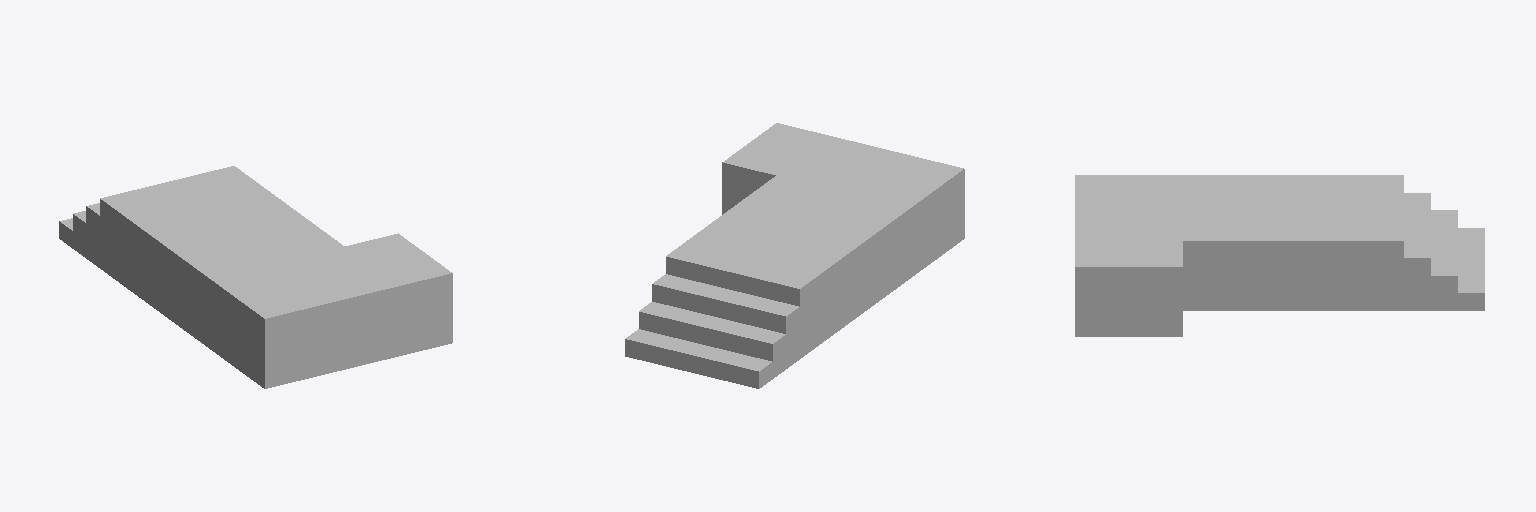
The model's file is AnvilStoneBase.obj.
3 renders of one model, left to right at view 1: azimuth 30°, elevation 25°; view 2: azimuth 150°, elevation 25°; view 3: azimuth 270°, elevation 25°, orthographic.
Parts seen in each view (by area): view 1: AnvilStoneBase; view 2: AnvilStoneBase; view 3: AnvilStoneBase.
Boxes of the visible parts, <box> form: AnvilStoneBase: <box>59,166,452,388</box>; AnvilStoneBase: <box>625,123,964,388</box>; AnvilStoneBase: <box>1075,175,1484,336</box>.
Bounding box in the file's own units: 1.4 × 0.5 × 2.65.